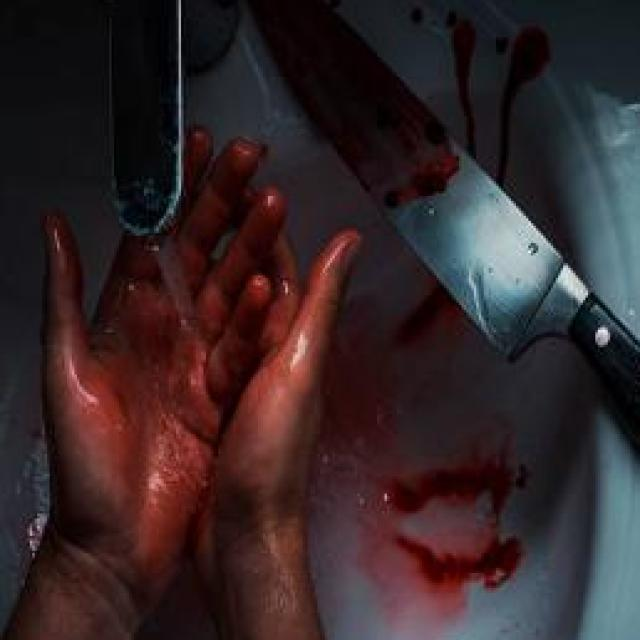knife: (219, 0, 640, 523)
